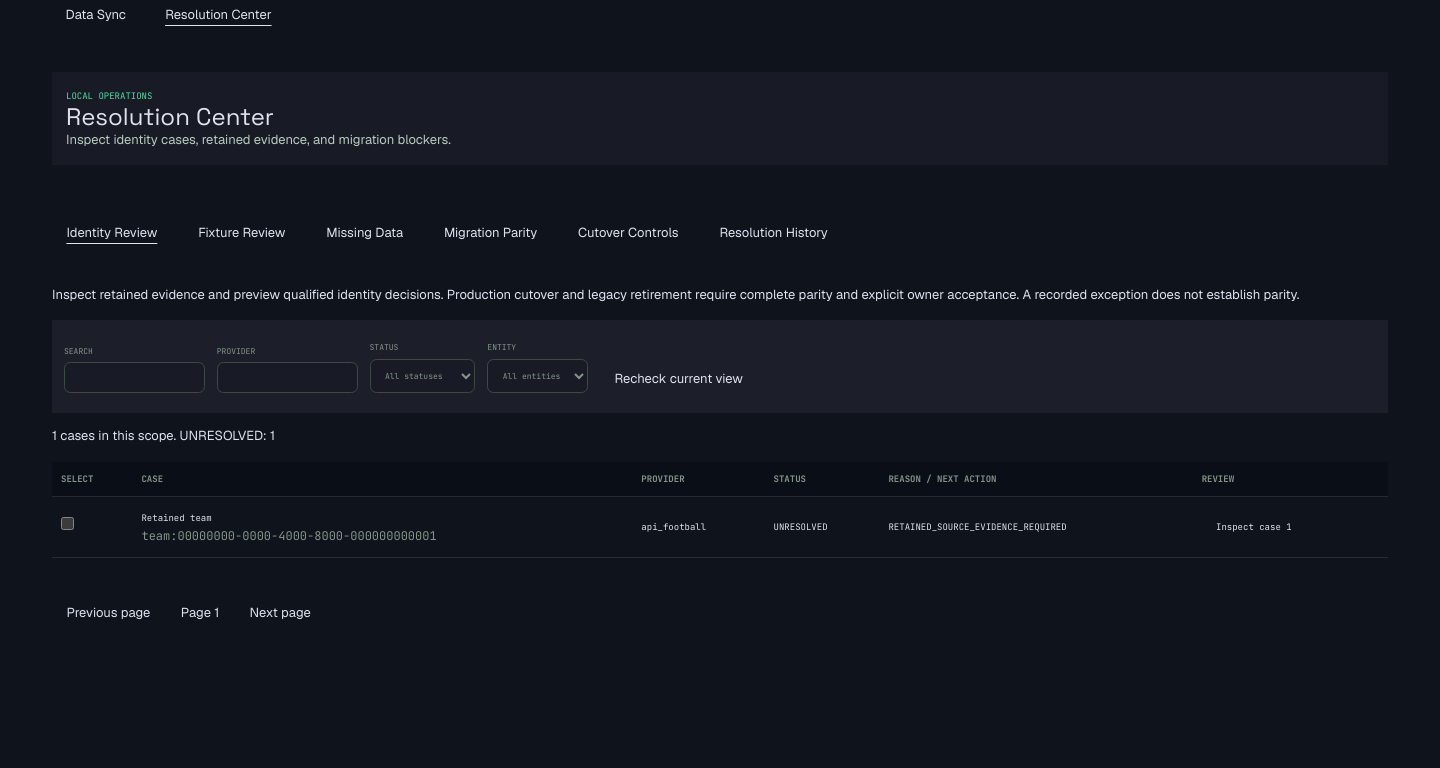
it: Resolution Center › inspects source evidence and exposes no decision controls
Check: the text "Retained team" is shown, box [142,512,212,524]
Click the button "Inspect case 1".
click(1254, 526)  # box [1202,504,1306,548]
(page scrolled)
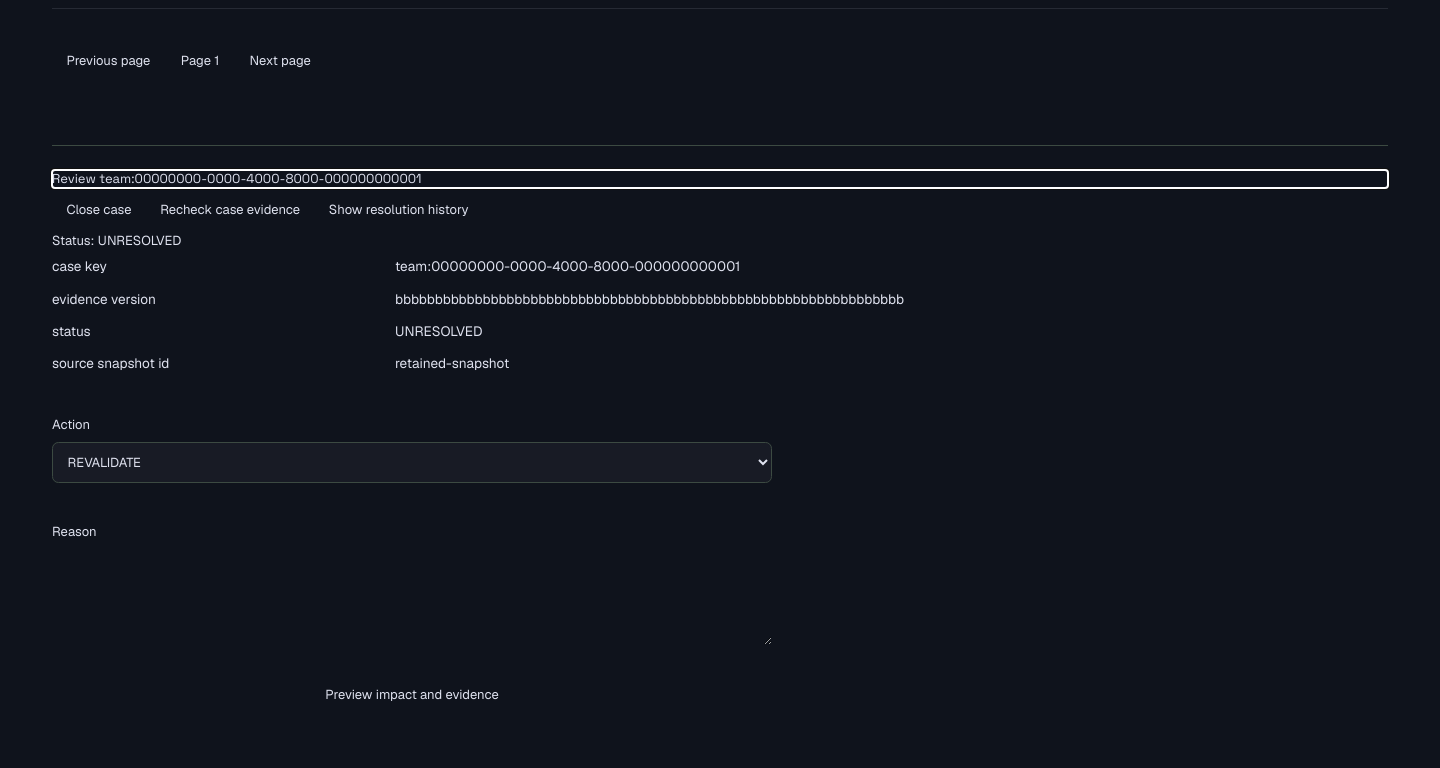
Check: the text "retained-snapshot" is shown, box [395,354,509,372]
